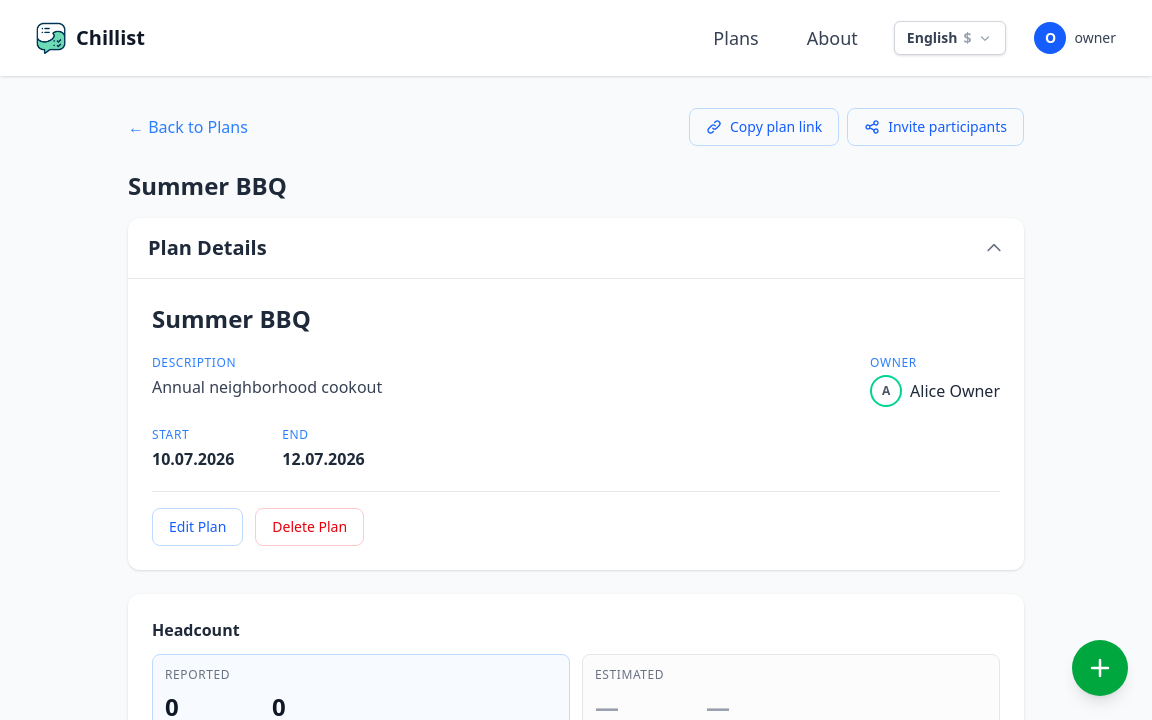
Test: PlanRoute — Integration › owner sees full plan with role-based UI › opens BulkItemAddWizard when Add Multiple FAB is clicked
Step 1. Click the button with test id "speed-dial-trigger" → click(1100, 668), box [1072,640,1128,696]
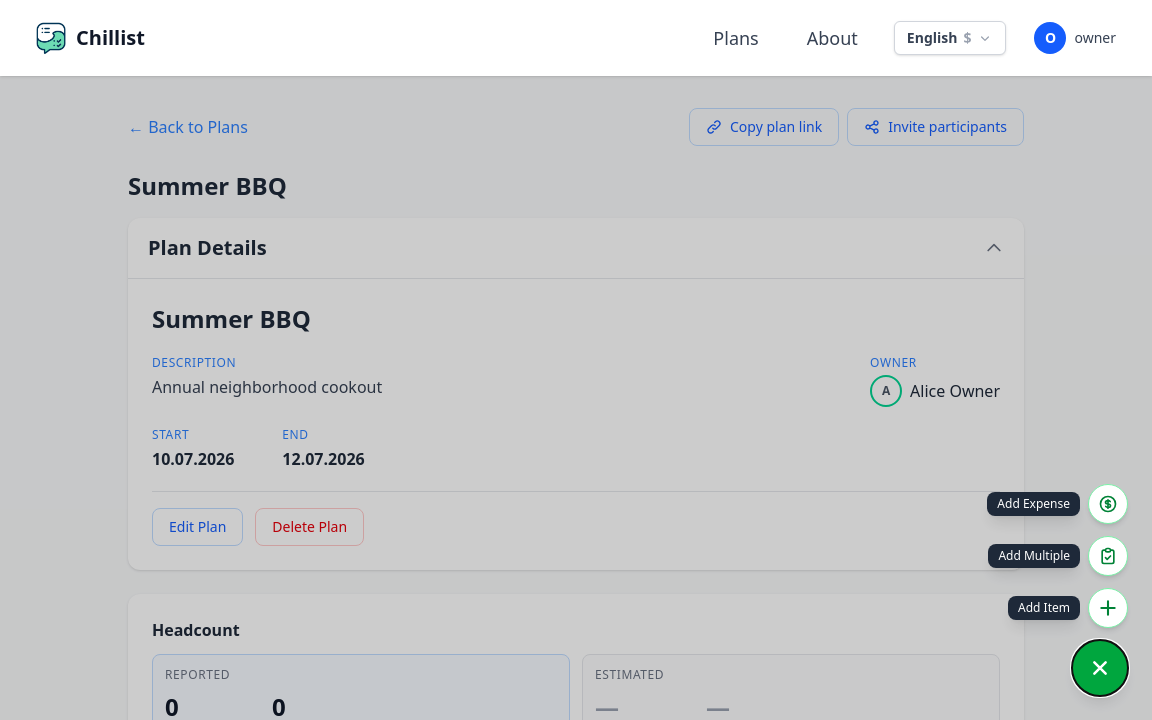
Step 2. Click the button with test id "bulk-add-fab" → click(1108, 556), box [1088,536,1128,576]
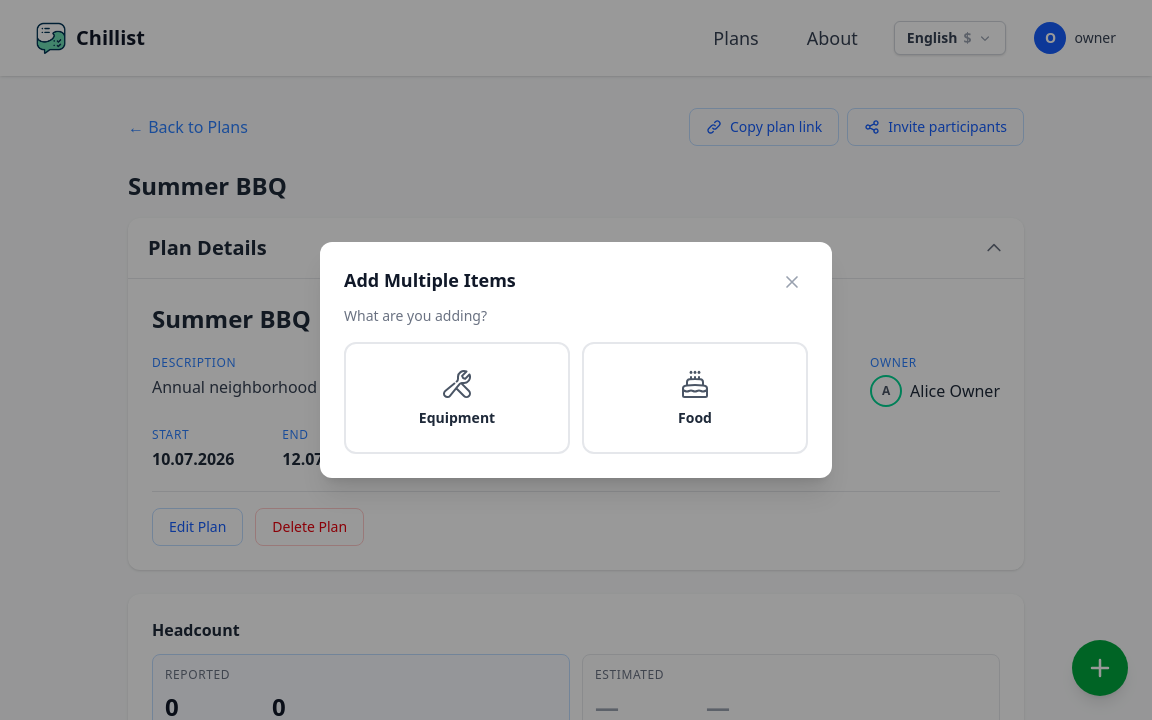
expect the heading "Add Multiple Items" is shown: met, box [344,266,516,294]
expect the text "Equipment" is shown: met, box [419,408,495,428]
expect the text "Food" is shown: met, box [678,408,712,428]
